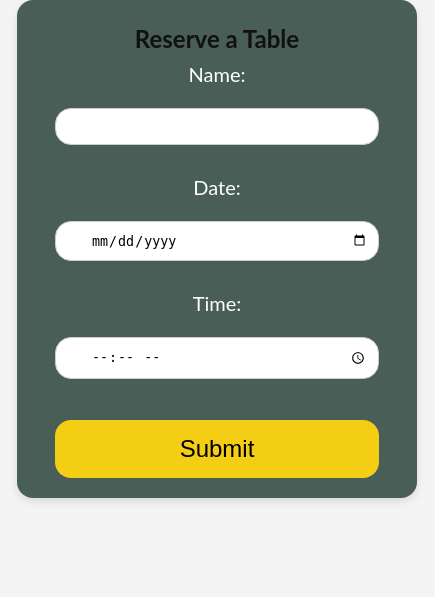
<Booking /> › should display errors when required fields are empty
Click the button "Submit" at (217, 449), box [55,420,379,478]
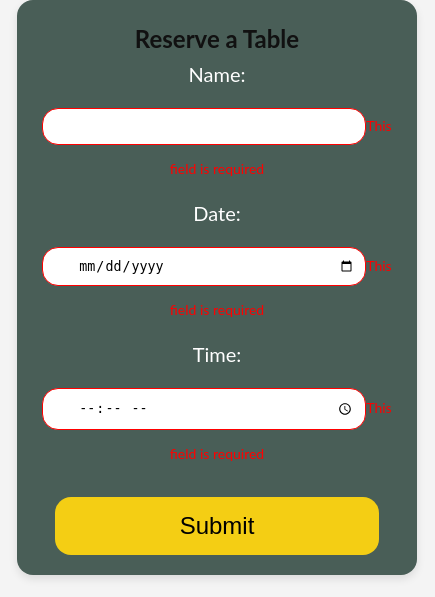
Now the text "This field is required" is shown 3 times, box [170,117,392,177]; [170,257,392,318]; [170,399,392,462]
